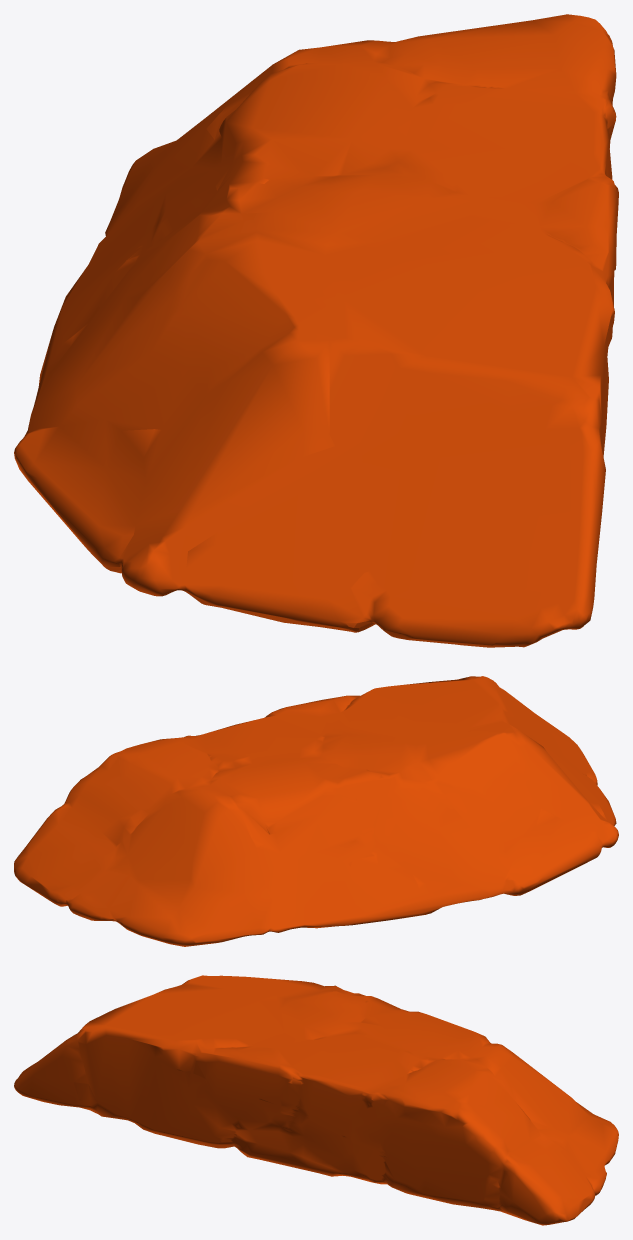
3 renders of one model, top to bottom at view 1: azimuth 30°, elevation 25°; view 2: azimuth 150°, elevation 25°; view 3: azimuth 270°, elevation 25°, orthographic. The views are drawn at different scales.
Parts seen in each view (by area): view 1: Mesh_51_LOD0; view 2: Mesh_51_LOD0; view 3: Mesh_51_LOD0.
Part boxes in pixels (x1,y1,x2,y2): Mesh_51_LOD0: [14, 14, 618, 647]; Mesh_51_LOD0: [14, 676, 618, 946]; Mesh_51_LOD0: [14, 975, 618, 1225].
Size of what is drawn, in the model's own units: 3877 by 984 by 4803.
